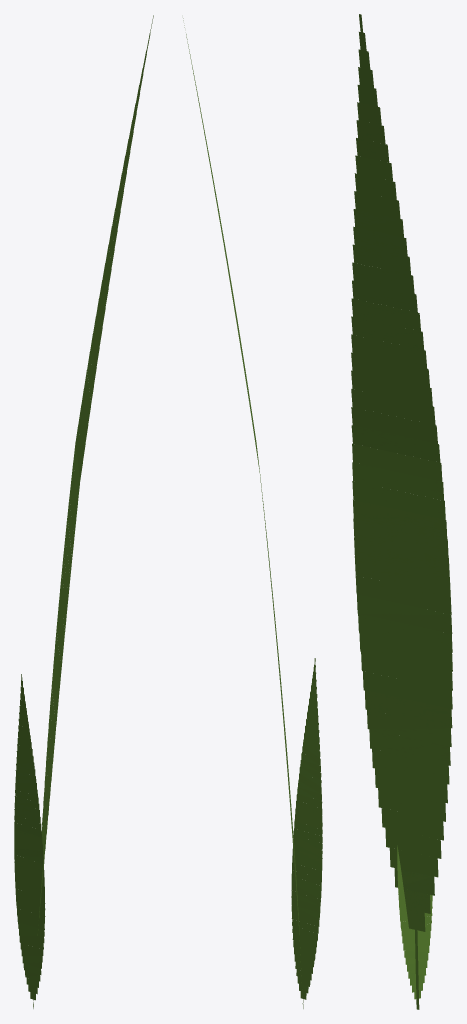
Rendered from maize_003_day_030.dae.
The picture shows the model from 3 angles, left to right: view 1: azimuth 30°, elevation 25°; view 2: azimuth 210°, elevation 25°; view 3: azimuth 270°, elevation 25°; orthographic projection. The views are drawn at different scales.
Parts seen in each view (by area): view 1: node; view 2: node; view 3: node.
Boxes of the visible parts, bbox=[...] form: node: bbox=[14, 15, 153, 1008]; node: bbox=[183, 18, 322, 1008]; node: bbox=[351, 14, 452, 1009].
Bounding box in the file's own units: 0.0199 × 0.1718 × 0.0152.
Materials: 1 (1 with a texture image).
